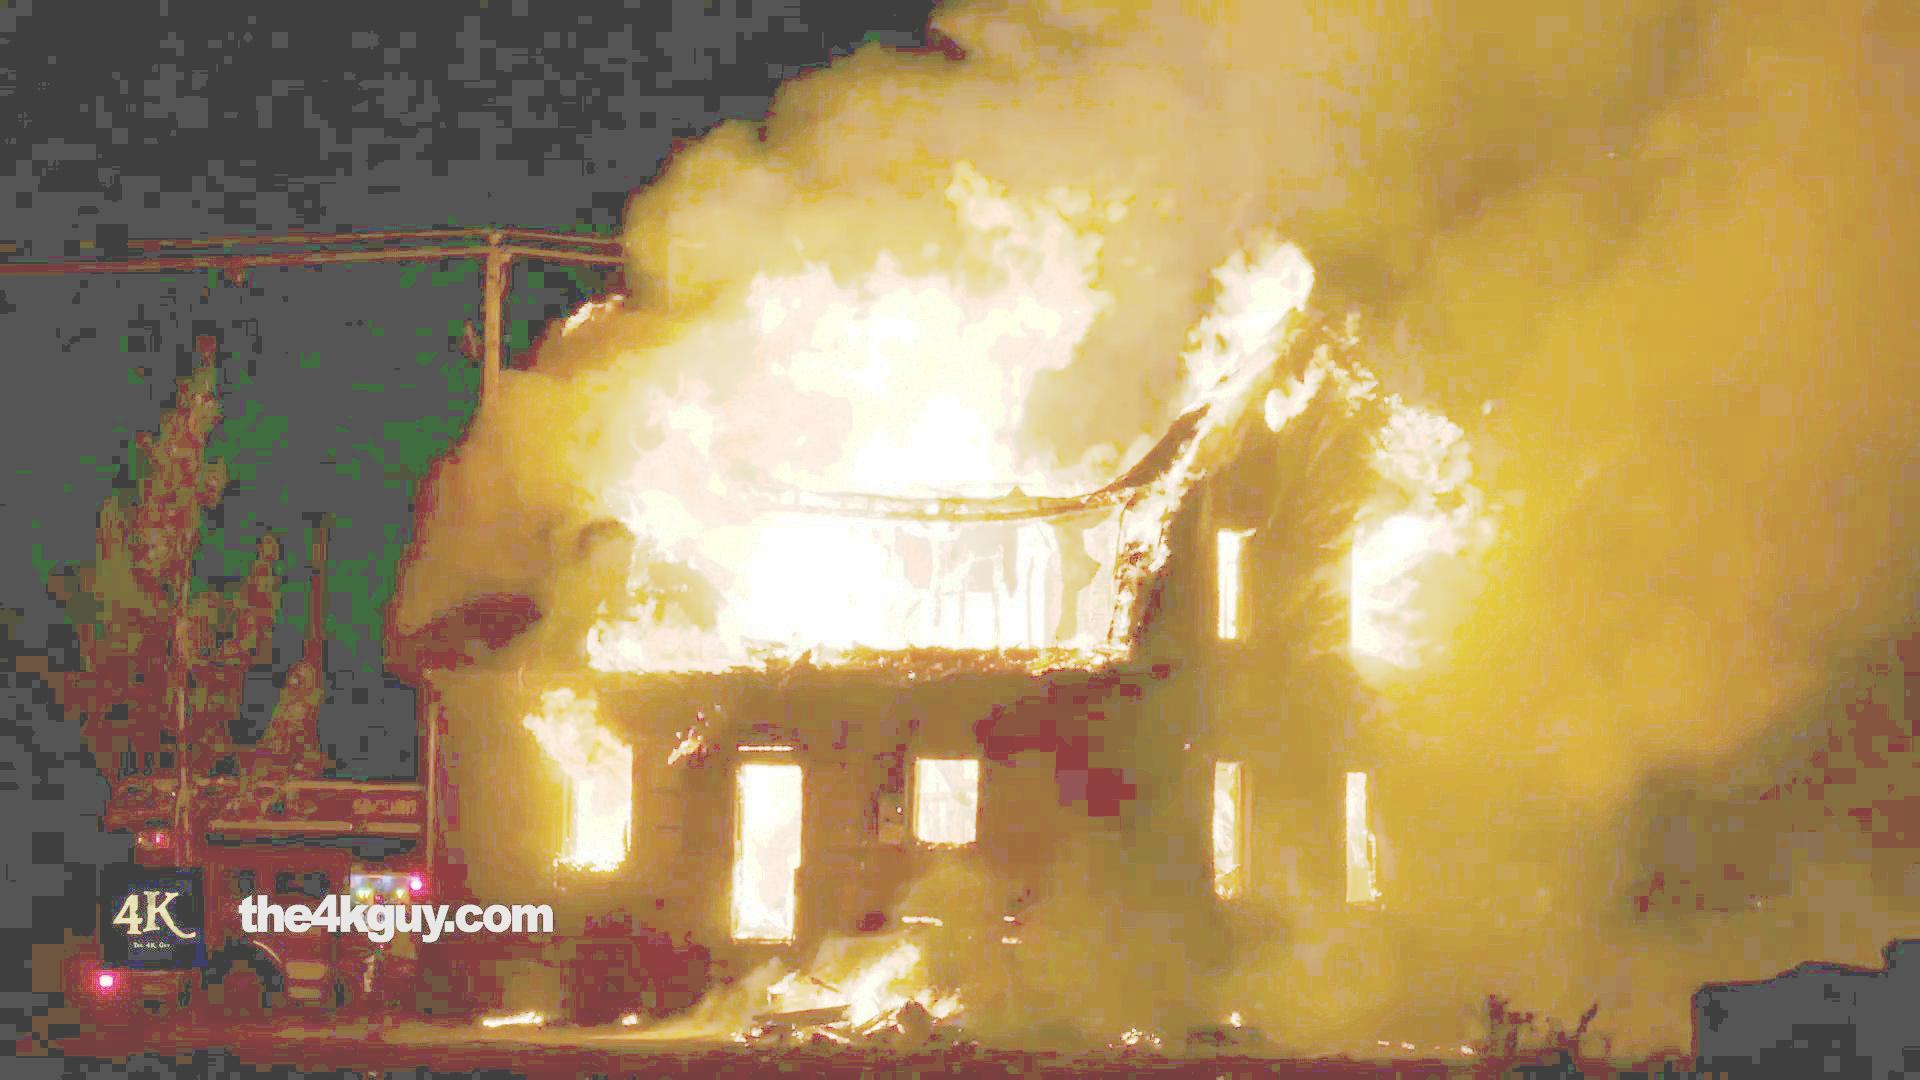fire: (495, 111, 1175, 650), (1341, 413, 1506, 687), (505, 670, 633, 877), (745, 771, 810, 922)
